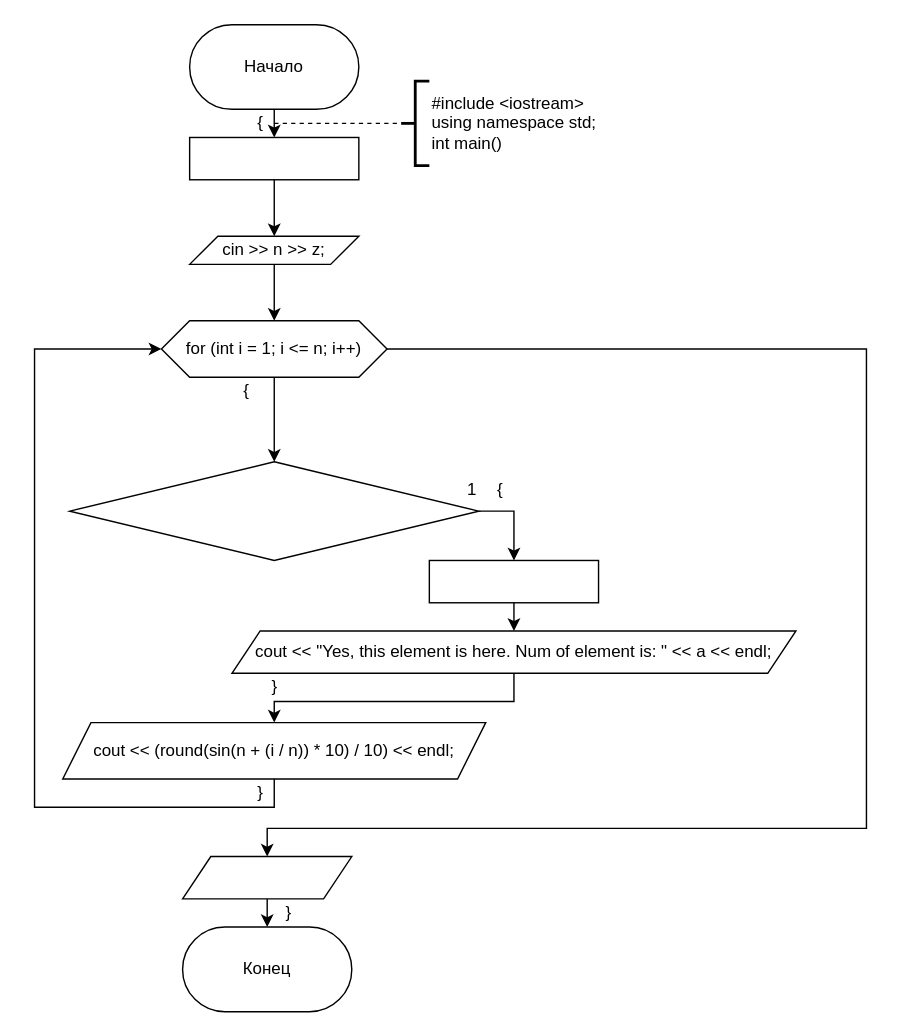
This 902x1036 diagram has some shape labels left out. The shapes that lost their labels are listed below. From the top down, each one's box as (x1, y1, x2, y2) in pixels, then its label:
(188, 136, 359, 180): float n,z,a; a = 0;
(68, 460, 479, 560): if (z == (round(sin(n + (i / n)) * 10)/10))
(428, 559, 599, 603): a += 1;
(181, 855, 352, 899): cout << sum;
